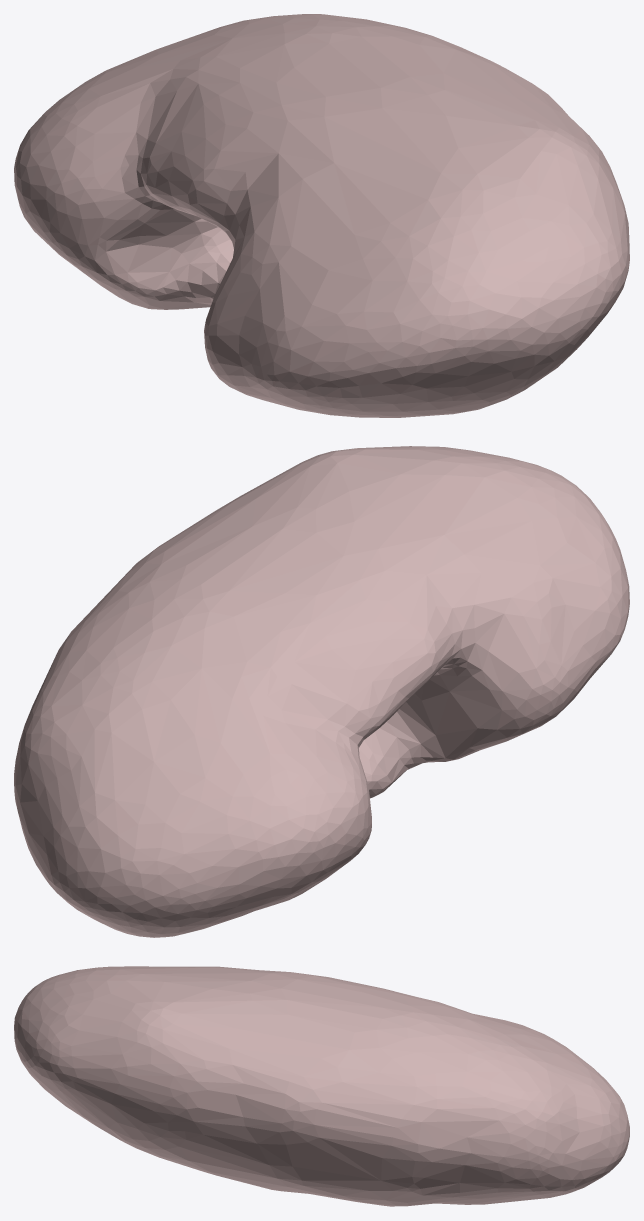
The model's file is left_kidney.glb.
The picture shows the model from 3 angles, top to bottom: view 1: azimuth 30°, elevation 25°; view 2: azimuth 150°, elevation 25°; view 3: azimuth 270°, elevation 25°; orthographic projection. The views are drawn at different scales.
Parts seen in each view (by area): view 1: left_kidney; view 2: left_kidney; view 3: left_kidney.
Part boxes in pixels (<box>): left_kidney: <box>14,14,629,417</box>; left_kidney: <box>14,446,629,937</box>; left_kidney: <box>14,966,629,1206</box>.
Size of the model in its own units: 57.54 by 40.59 by 106.
